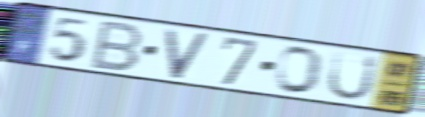5: (47, 15, 95, 64)
7: (219, 35, 259, 87)
B: (87, 19, 146, 74)
O: (273, 44, 326, 96)
U: (324, 49, 380, 102)
V: (163, 27, 213, 81)
